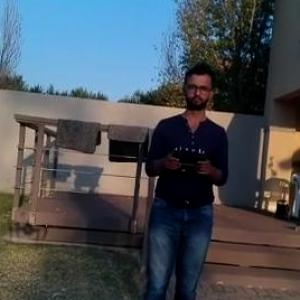follow: (136, 57, 233, 299)
